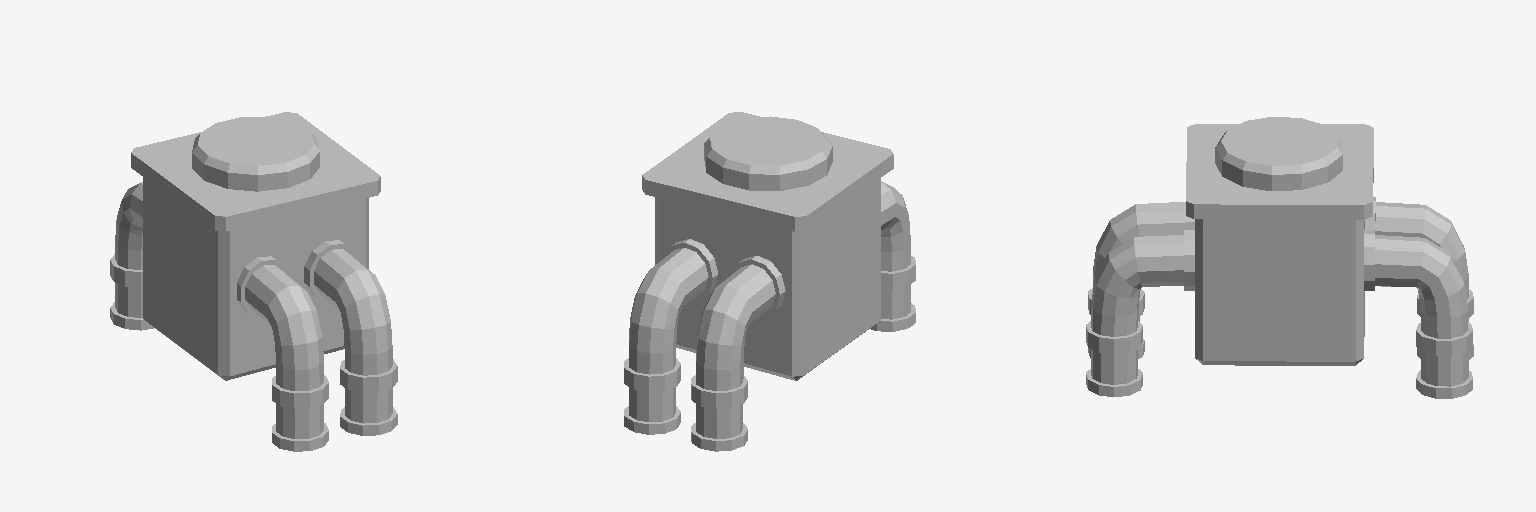
Rendered from cubePipe.obj.
The picture shows the model from 3 angles: view 1: azimuth 30°, elevation 25°; view 2: azimuth 150°, elevation 25°; view 3: azimuth 270°, elevation 25°; orthographic projection.
Visible parts, largest first — view 1: hub:cubePipe Hub; view 2: hub:cubePipe Hub; view 3: hub:cubePipe Hub.
Part boxes in pixels (x1,y1,x2,y2): hub:cubePipe Hub: (110,112,397,451); hub:cubePipe Hub: (624,112,915,451); hub:cubePipe Hub: (1086,117,1473,398).
Bounding box in the file's own units: 3.17 × 4.17 × 6.4.